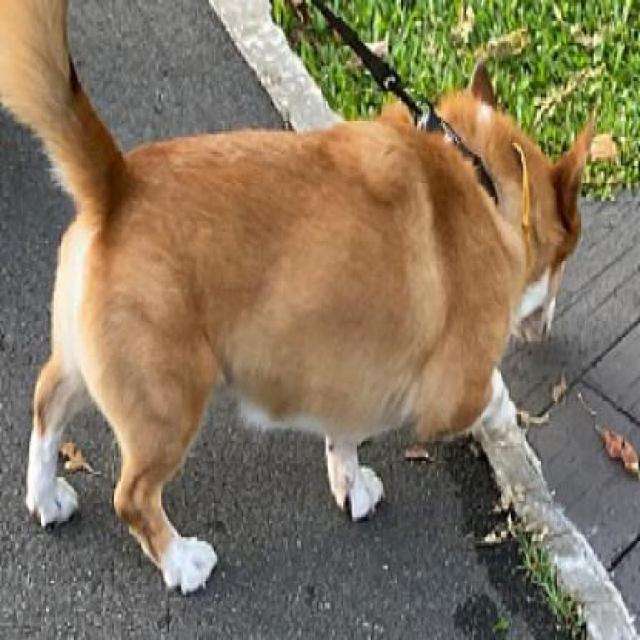Dog: (0, 0, 601, 595)
